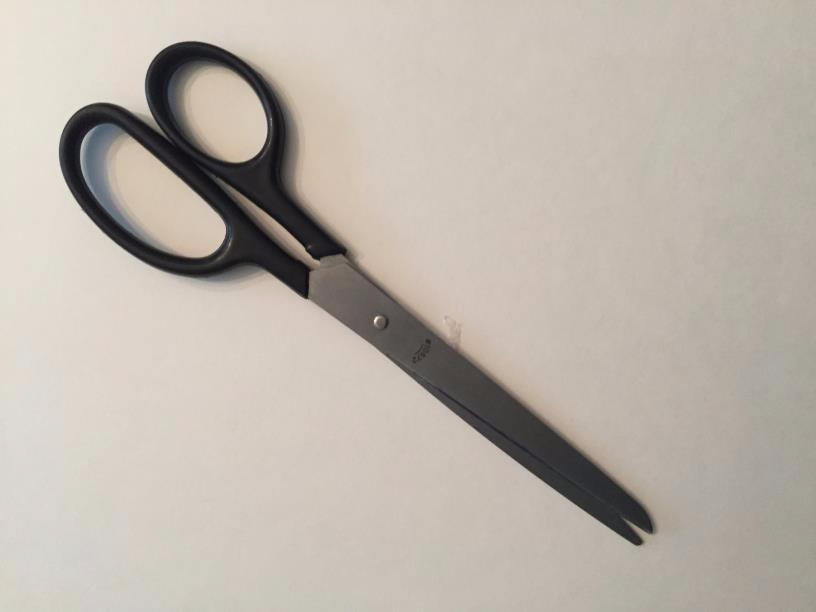scissor: (41, 29, 678, 575)
